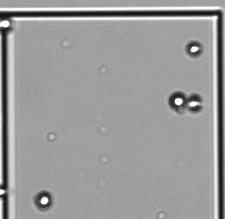Living Cell: (168, 92, 186, 110), (36, 191, 53, 210), (187, 94, 203, 113), (185, 41, 202, 57), (1, 18, 11, 30)
